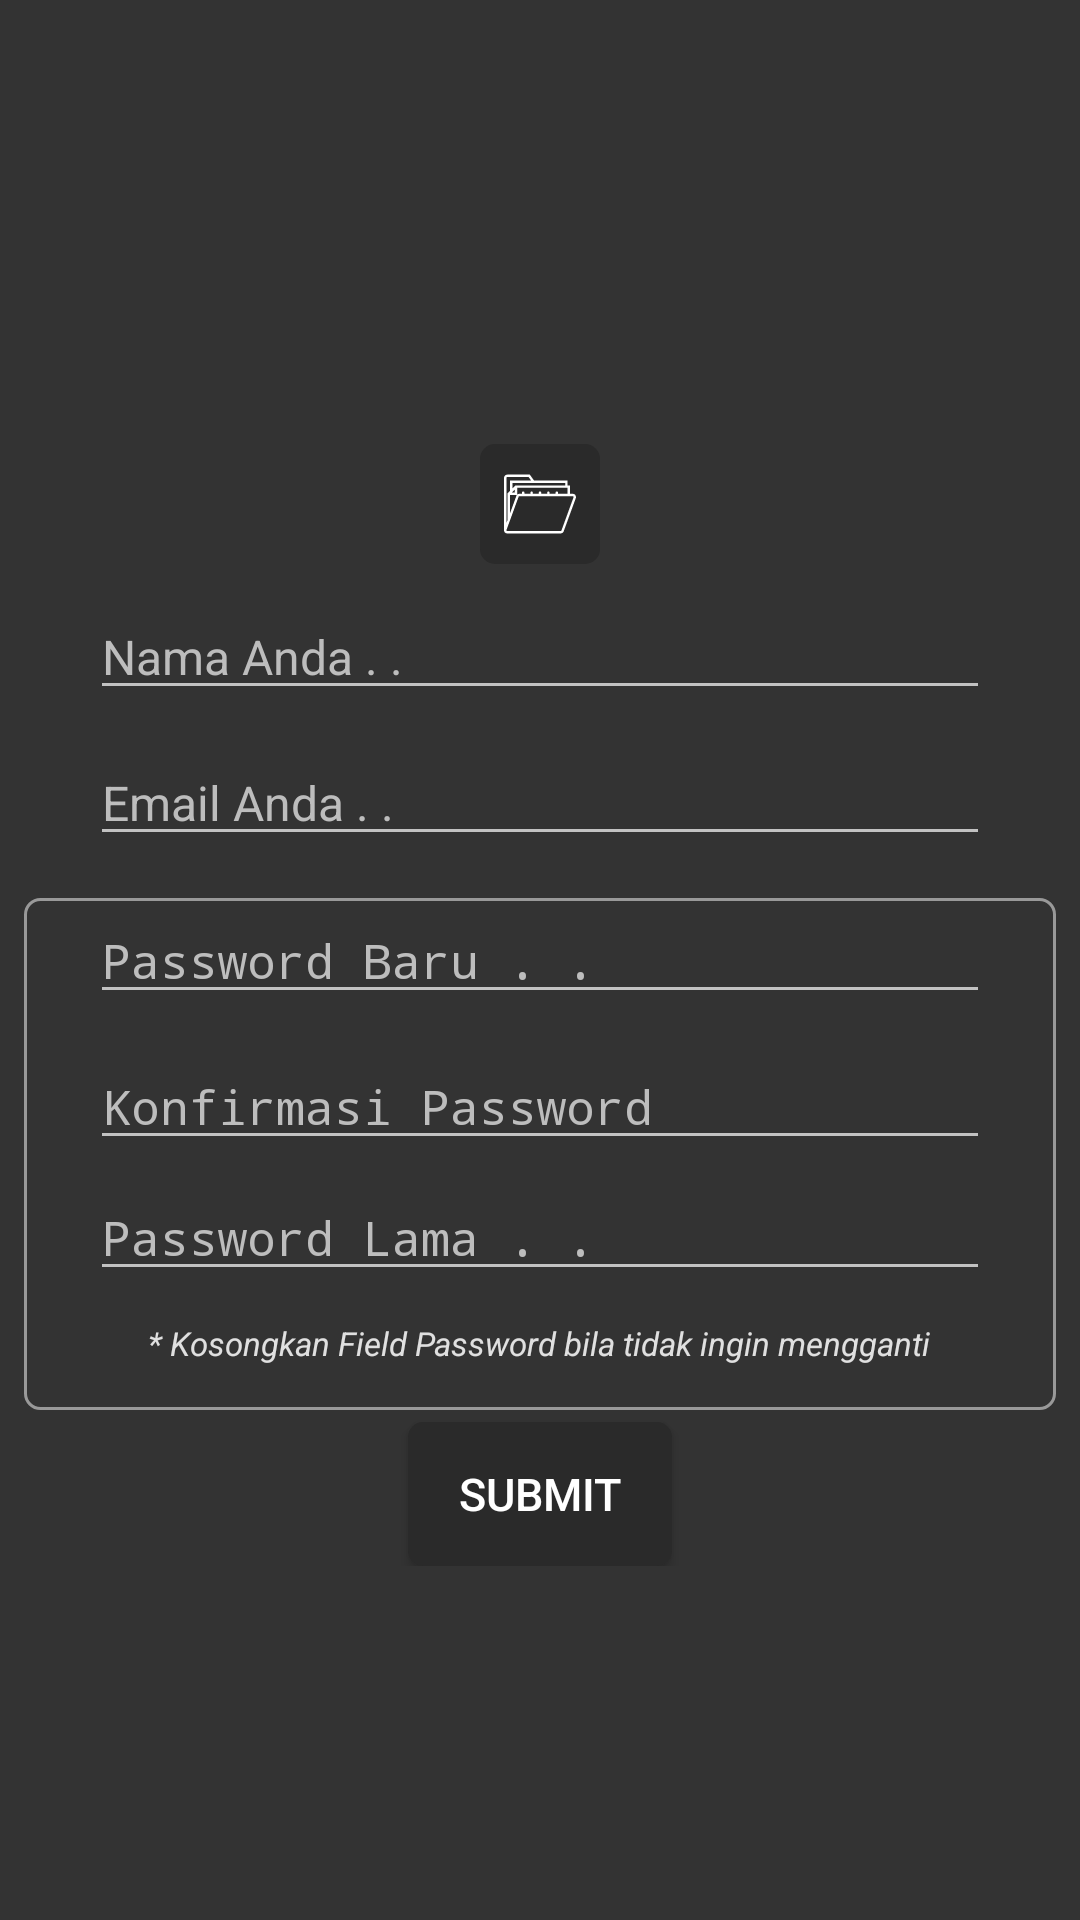

Screen size 1080 × 1920. Icon name, then its center in pixels as [x,y]:
folder: [540,504]
